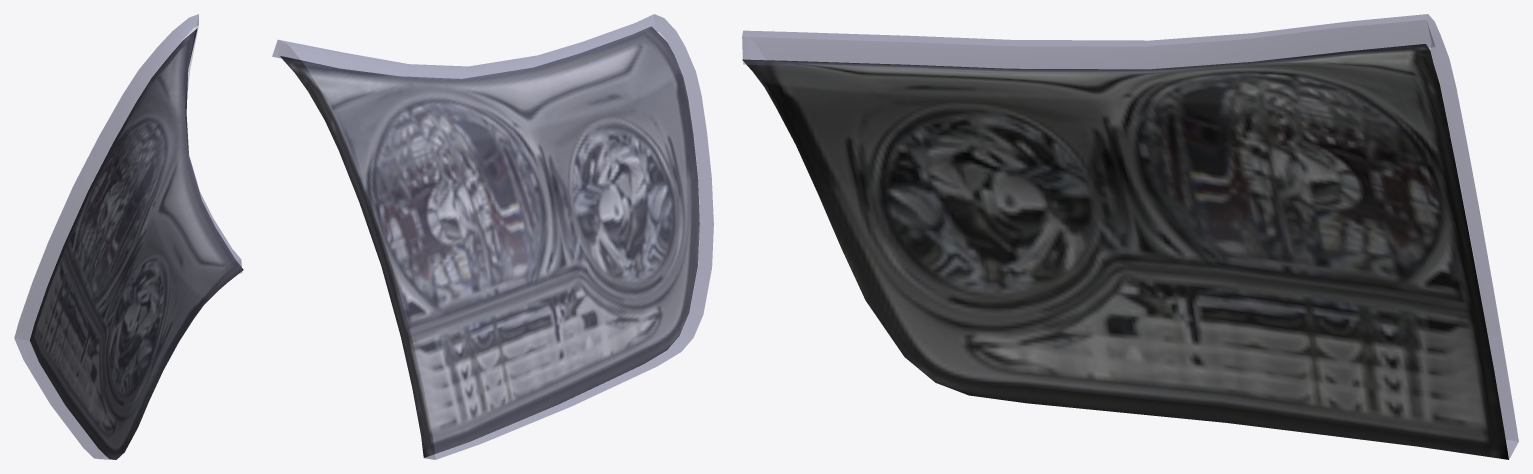
The picture shows the model from 3 angles, left to right: view 1: azimuth 30°, elevation 25°; view 2: azimuth 150°, elevation 25°; view 3: azimuth 270°, elevation 25°; orthographic projection. The views are drawn at different scales.
Parts seen in each view (by area): view 1: LX61_541D_L_LX61_541D_L_2_DTaSI, LX61_541D_L_1_N_LX61_541D_L; view 2: LX61_541D_L_LX61_541D_L_2_DTaSI, LX61_541D_L_1_N_LX61_541D_L; view 3: LX61_541D_L_1_N_LX61_541D_L, LX61_541D_L_LX61_541D_L_2_DTaSI.
Part boxes in pixels (x1=…): LX61_541D_L_LX61_541D_L_2_DTaSI: x1=14, y1=14, x2=242, y2=459; LX61_541D_L_1_N_LX61_541D_L: x1=30, y1=28, x2=243, y2=459; LX61_541D_L_LX61_541D_L_2_DTaSI: x1=272, y1=14, x2=713, y2=459; LX61_541D_L_1_N_LX61_541D_L: x1=280, y1=26, x2=699, y2=457; LX61_541D_L_1_N_LX61_541D_L: x1=742, y1=44, x2=1508, y2=459; LX61_541D_L_LX61_541D_L_2_DTaSI: x1=742, y1=14, x2=1518, y2=458.
Size of the model in its own units: 17.78 by 22.73 by 27.82.
